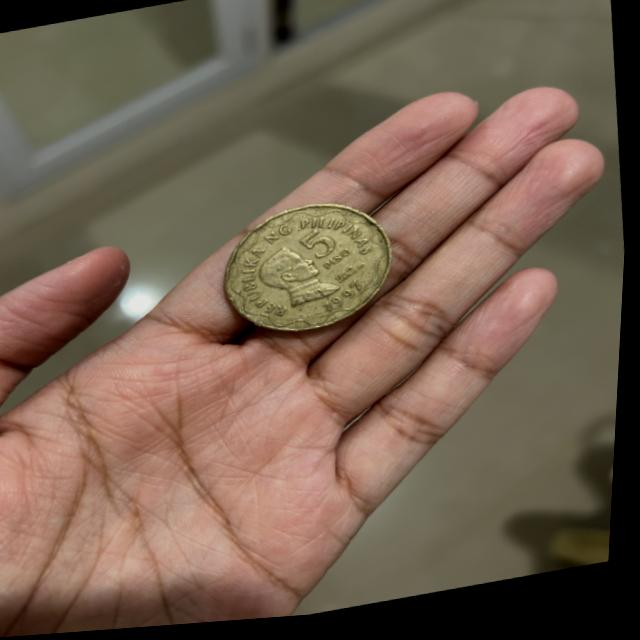5_Old_Front: (290, 222, 359, 286)
